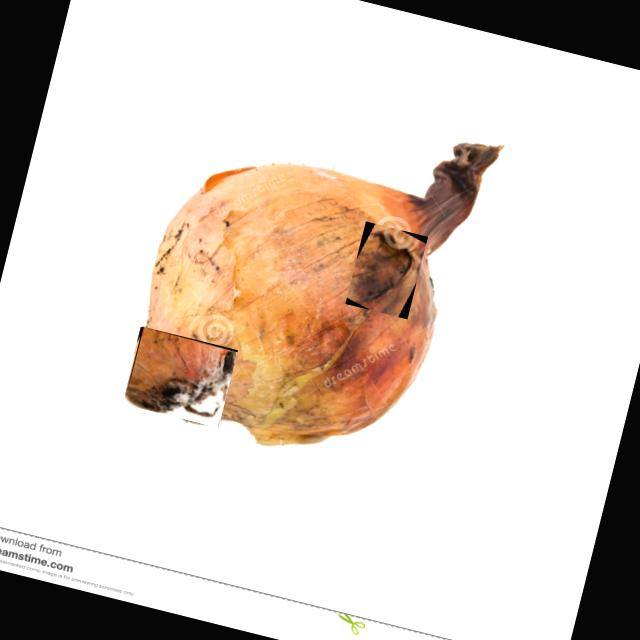mould: (344, 221, 428, 319), (126, 350, 235, 416), (134, 330, 150, 356)
